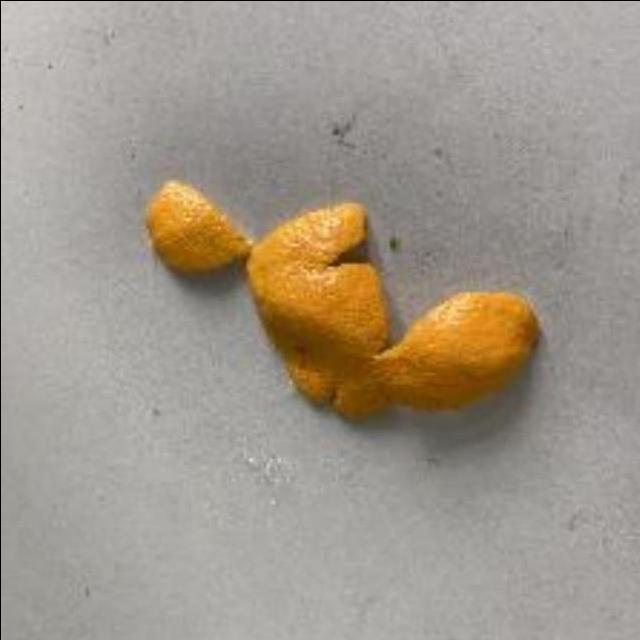orange peel: (139, 181, 536, 419)
